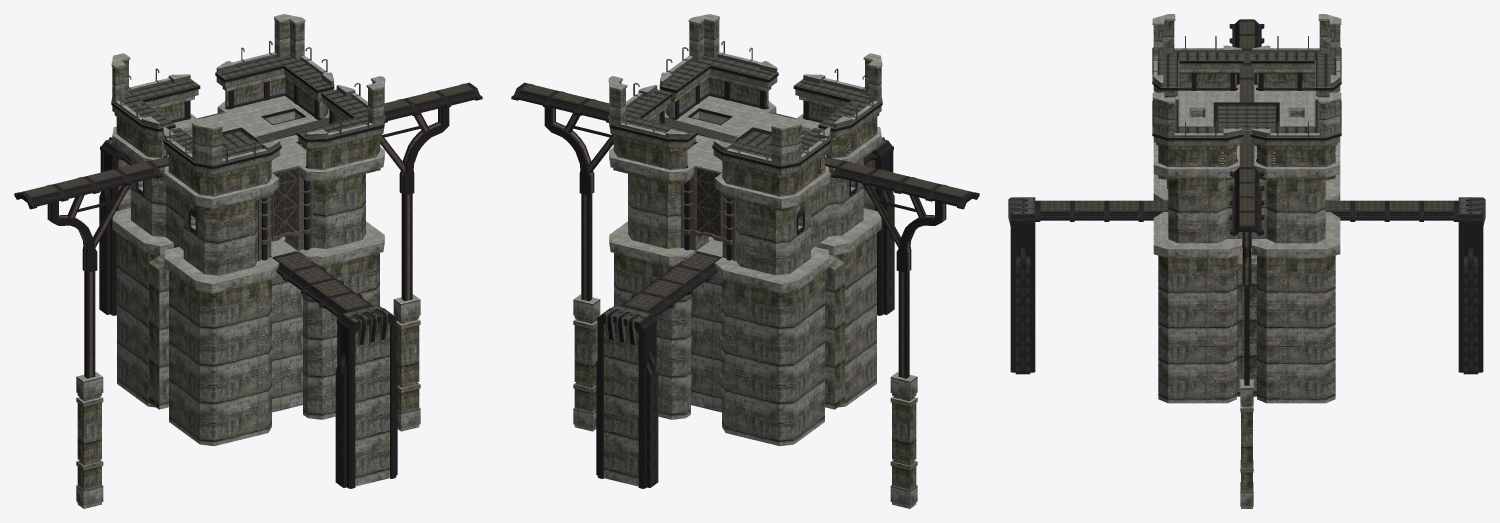
The model's file is squarecastle.fbx.
3 views of the same model, side by side, from view 1: azimuth 30°, elevation 25°; view 2: azimuth 150°, elevation 25°; view 3: azimuth 270°, elevation 25° (orthographic). The views are drawn at different scales.
Parts seen in each view (by area): view 1: Object.001; view 2: Object.001; view 3: Object.001.
Part boxes in pixels (box(x1,y1,x2,y2)): Object.001: box(14, 14, 482, 508); Object.001: box(511, 14, 979, 508); Object.001: box(1008, 14, 1485, 508).
Bounding box in the file's own units: 20000 × 16750 × 19400.
